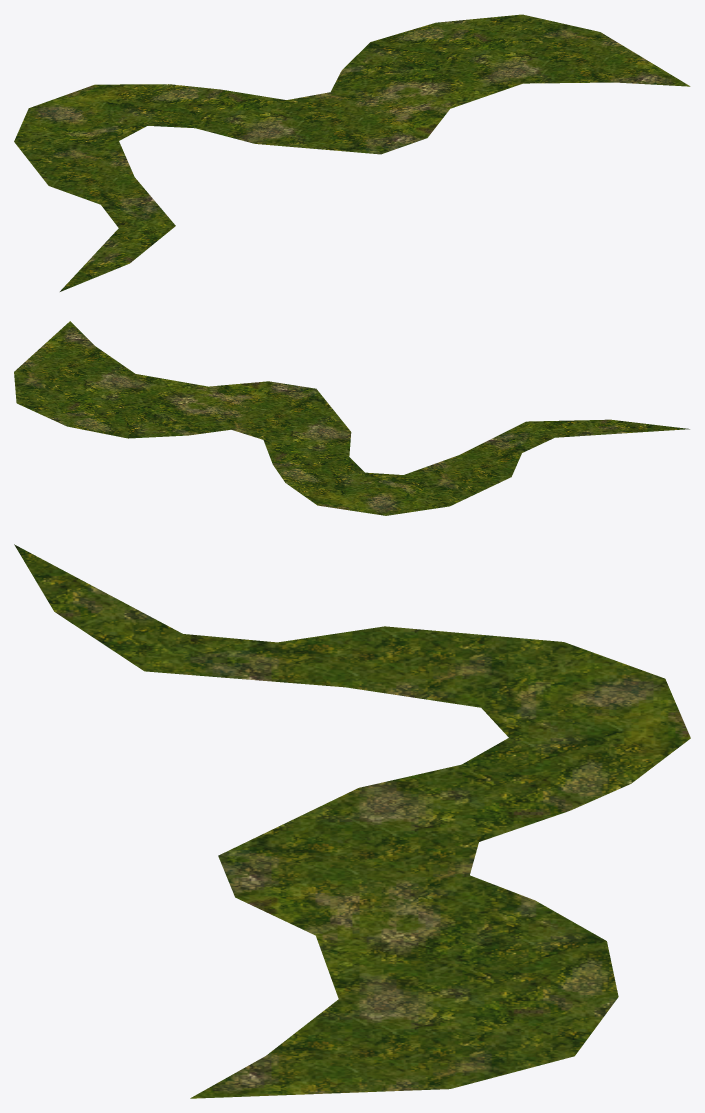
Rendered from OVERHILL_A_01_WALL3.fbx.
The picture shows the model from 3 angles, top to bottom: view 1: azimuth 30°, elevation 25°; view 2: azimuth 150°, elevation 25°; view 3: azimuth 270°, elevation 25°; orthographic projection. The views are drawn at different scales.
Visible parts, largest first — view 1: OVERHILL_A_01_WALL3; view 2: OVERHILL_A_01_WALL3; view 3: OVERHILL_A_01_WALL3.
Boxes of the visible parts, x1,y1,x2,y2 form: OVERHILL_A_01_WALL3: [14, 14, 690, 291]; OVERHILL_A_01_WALL3: [14, 321, 689, 515]; OVERHILL_A_01_WALL3: [14, 544, 690, 1098].
Bounding box in the file's own units: 55827 × 55.08 × 28804.
1 material, 1 textured.
